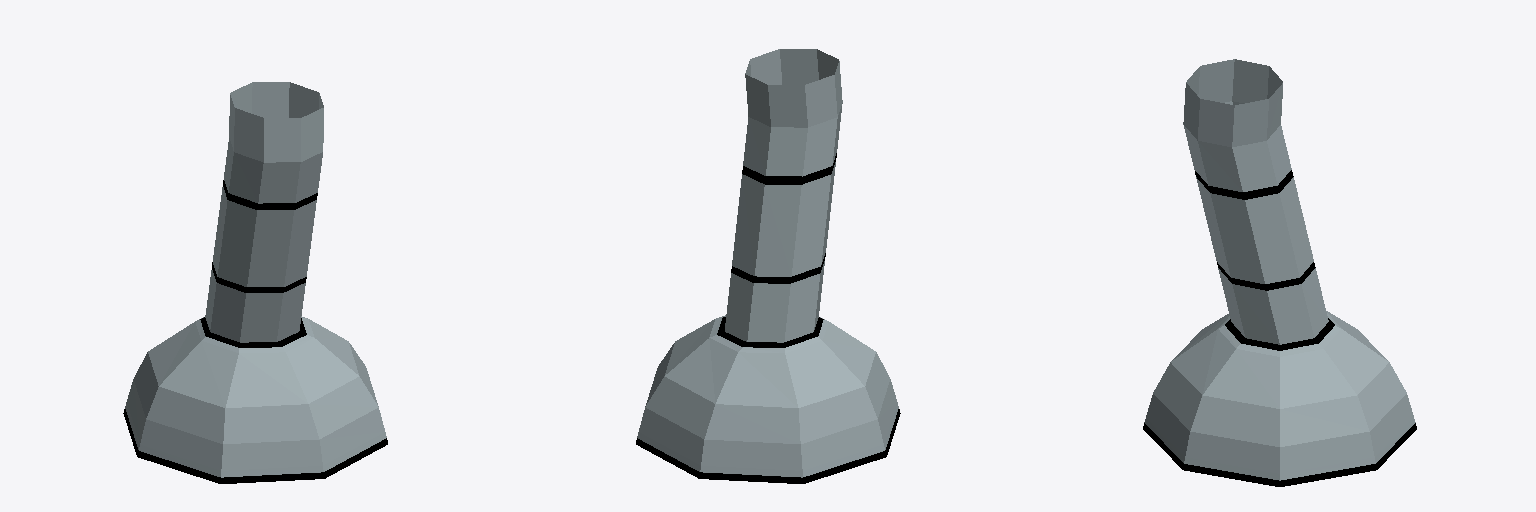
3 renders of one model, left to right at view 1: azimuth 30°, elevation 25°; view 2: azimuth 150°, elevation 25°; view 3: azimuth 270°, elevation 25°, orthographic.
Visible parts, largest first — view 1: pierna2_1; view 2: pierna2_1; view 3: pierna2_1.
Boxes of the visible parts, x1,y1,x2,y2 form: pierna2_1: [123, 82, 387, 483]; pierna2_1: [636, 49, 900, 483]; pierna2_1: [1143, 59, 1416, 486].
Bounding box in the file's own units: 0.541 × 0.7632 × 0.541.
Materials: 2 (1 with a texture image).